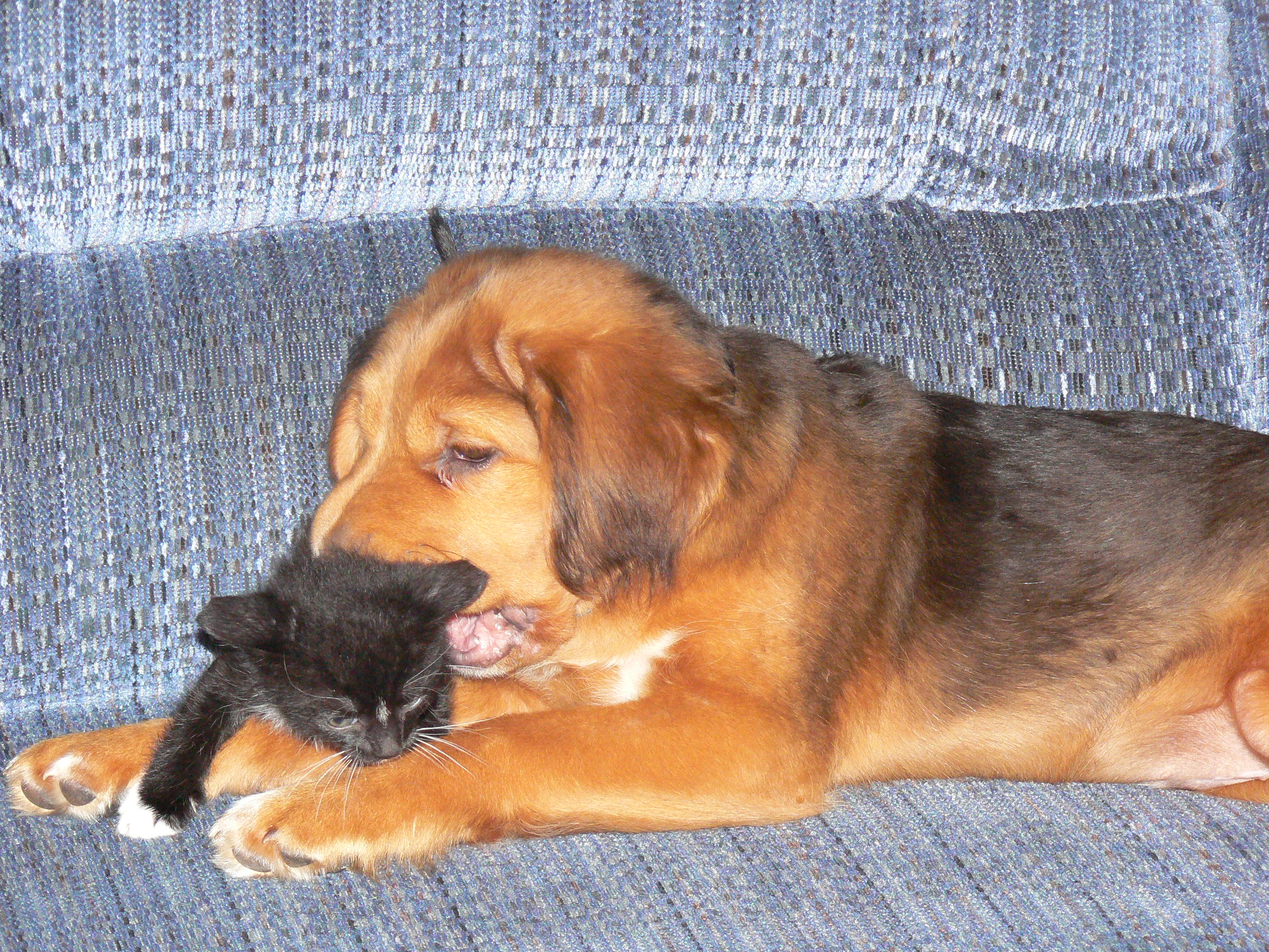cat: (115, 505, 500, 842)
